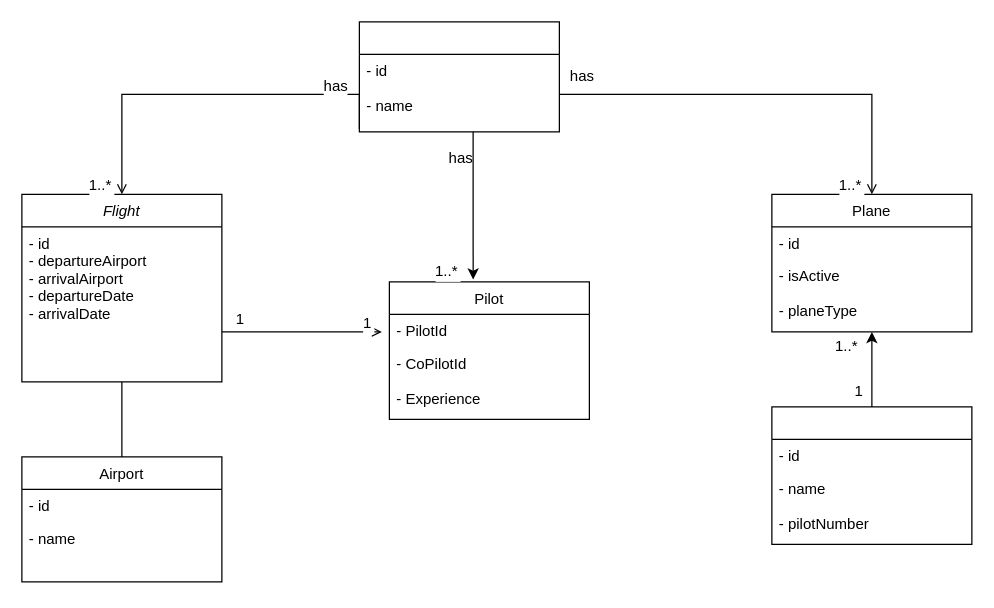
Some shapes in this 994 by 608 pixel diagram are drawn without their labels. The shapes that lost their labels are listed below. From the top down, each one's box as (x1, y1, x2, y2) in pixels, then its label:
(358, 21, 559, 132): Airline Company
(771, 406, 972, 544): PlaneType
